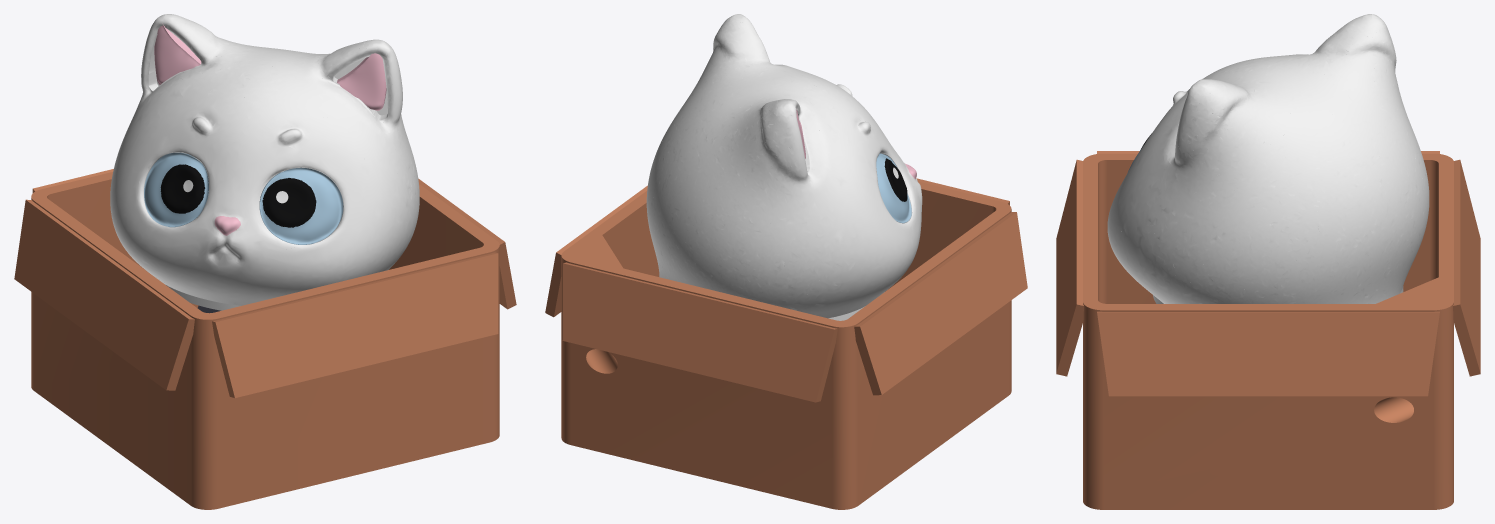
The model's file is cat-clicker.glb.
The picture shows the model from 3 angles, left to right: view 1: azimuth 30°, elevation 25°; view 2: azimuth 150°, elevation 25°; view 3: azimuth 270°, elevation 25°; orthographic projection. The views are drawn at different scales.
Parts seen in each view (by area): view 1: box, cat_body, eye_1, eye_0, ear_2, ear_3; view 2: box, cat_body, eye_0; view 3: box, cat_body.
Boxes of the visible parts, left/top/right/bottom form: box: left=14, top=169, right=516, bottom=509; cat_body: left=110, top=14, right=419, bottom=310; eye_1: left=259, top=167, right=343, bottom=244; eye_0: left=144, top=152, right=208, bottom=227; ear_2: left=337, top=53, right=386, bottom=110; ear_3: left=154, top=23, right=201, bottom=84; box: left=545, top=178, right=1027, bottom=509; cat_body: left=646, top=14, right=922, bottom=320; eye_0: left=876, top=153, right=911, bottom=223; box: left=1056, top=151, right=1480, bottom=509; cat_body: left=1107, top=14, right=1429, bottom=303.
Bounding box in the file's own units: 45 × 45.7 × 45.
